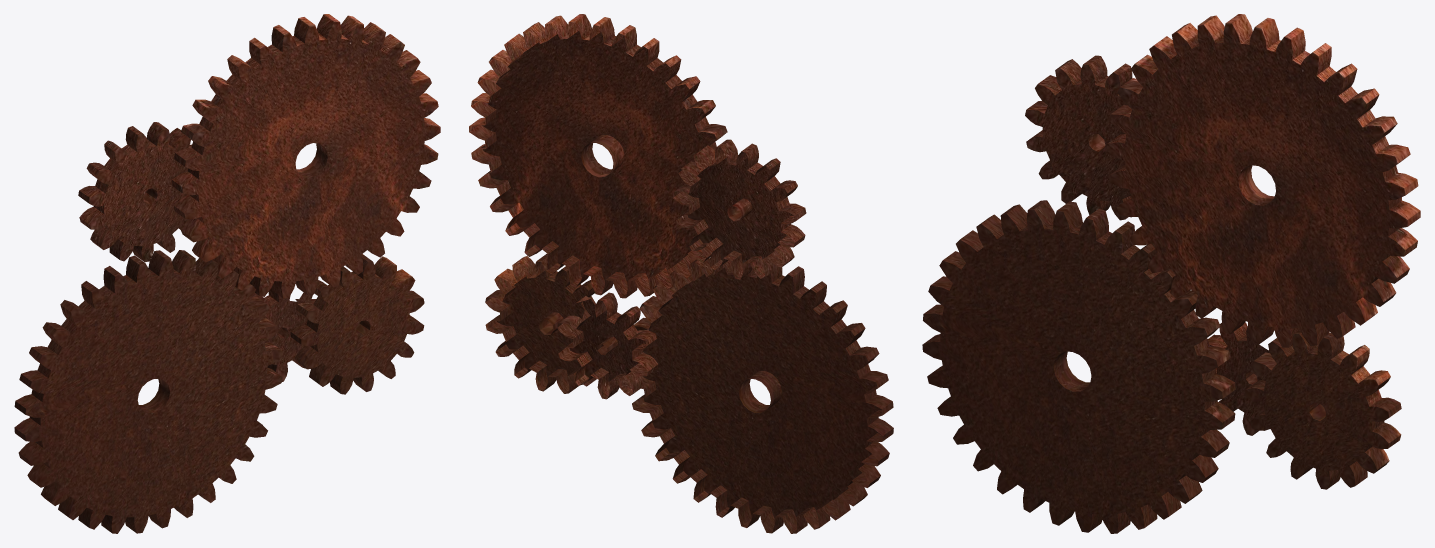
Rendered from part-gears.glb.
The picture shows the model from 3 angles, left to right: view 1: azimuth 30°, elevation 25°; view 2: azimuth 150°, elevation 25°; view 3: azimuth 330°, elevation 25°; orthographic projection. The views are drawn at different scales.
Parts seen in each view (by area): view 1: Rusty_Gears; view 2: Rusty_Gears; view 3: Rusty_Gears.
Boxes of the visible parts, x1,y1,x2,y2 form: Rusty_Gears: (14,14,440,533); Rusty_Gears: (469,14,893,533); Rusty_Gears: (922,14,1420,533).
Size of the model in its own units: 7.21 by 7.75 by 0.702.
1 material, 1 textured.
